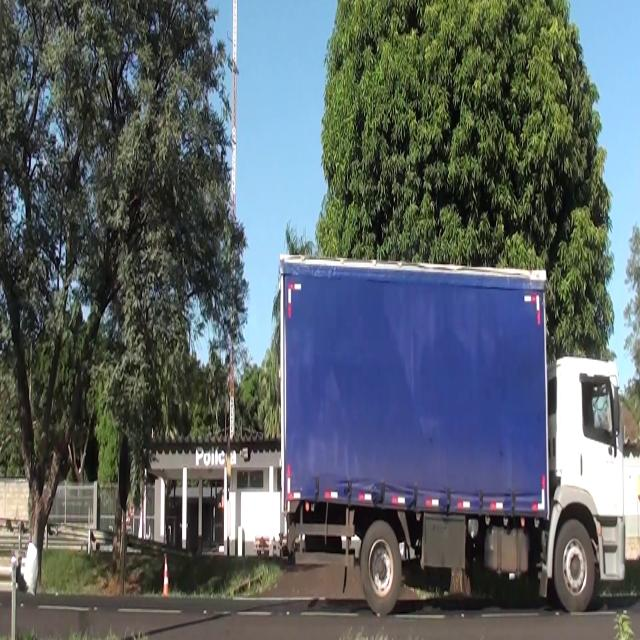-axle: (360, 518, 405, 618), (553, 516, 595, 611)
